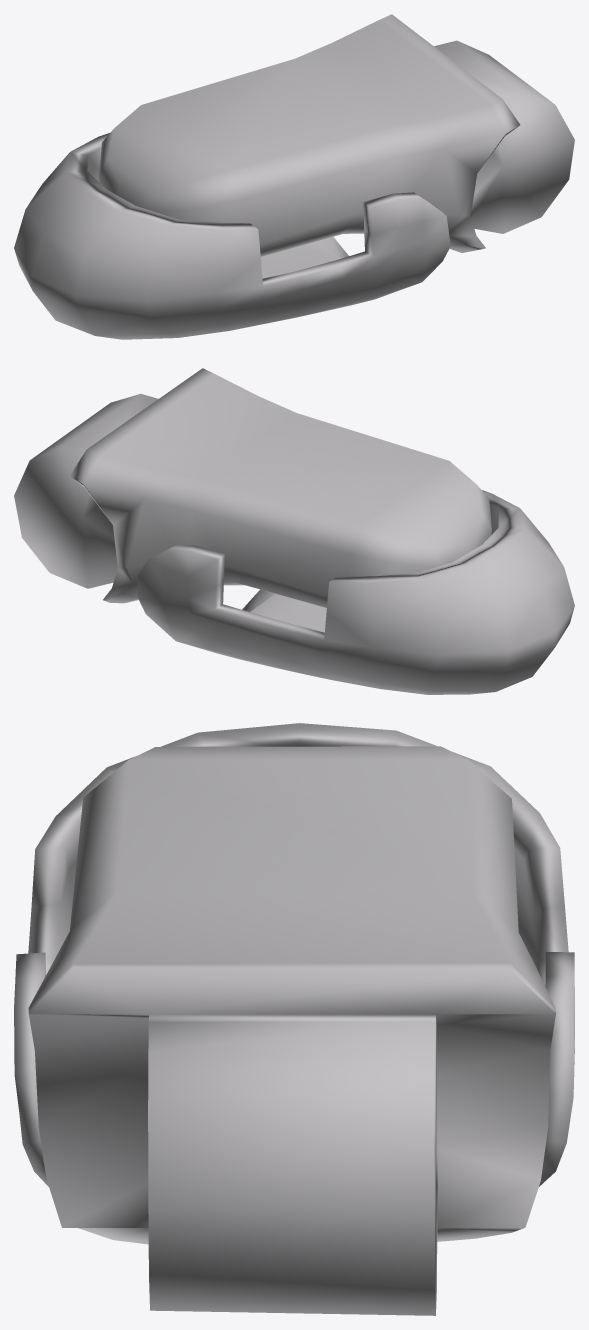
The model's file is Thumb_Dist.dae.
The picture shows the model from 3 angles, top to bottom: view 1: azimuth 30°, elevation 25°; view 2: azimuth 150°, elevation 25°; view 3: azimuth 270°, elevation 25°; orthographic projection. The views are drawn at different scales.
Parts seen in each view (by area): view 1: Mesh; view 2: Mesh; view 3: Mesh.
Part boxes in pixels (x1,y1,x2,y2): Mesh: [14, 14, 574, 339]; Mesh: [14, 368, 574, 694]; Mesh: [14, 723, 574, 1315].
Bounding box in the file's own units: 0.038 × 0.0144 × 0.0188.
Materials: 1 (1 with a texture image).
